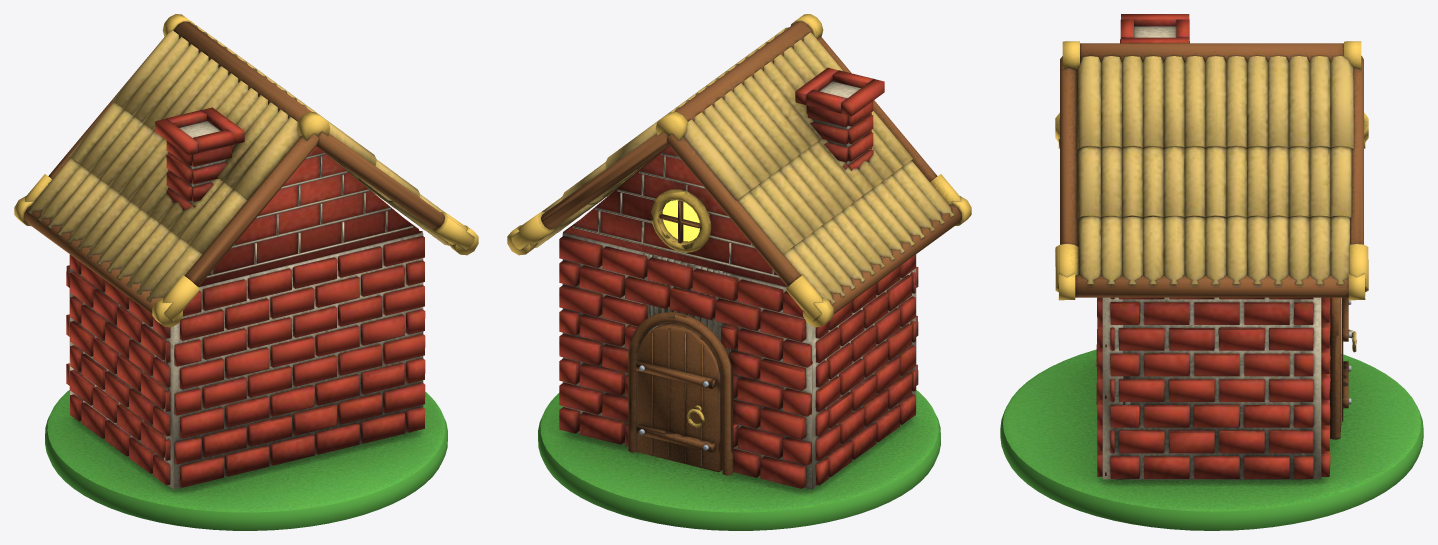
3 views of the same model, side by side, from view 1: azimuth 30°, elevation 25°; view 2: azimuth 150°, elevation 25°; view 3: azimuth 270°, elevation 25° (orthographic). The views are drawn at different scales.
Parts seen in each view (by area): view 1: Clay_brick_red, Golden_straw, Meadow_green, Warm_cream_mortar, Sanded_timber, Polished_golden_details; view 2: Clay_brick_red, Golden_straw, Sanded_timber, Meadow_green, Warm_cream_mortar, Polished_golden_details, glow_Warm_interior_light; view 3: Golden_straw, Clay_brick_red, Meadow_green, Sanded_timber, Warm_cream_mortar, Polished_golden_details.
Part boxes in pixels (x1=…): Clay_brick_red: x1=66, y1=107, x2=425, y2=487; Golden_straw: x1=27, y1=25, x2=449, y2=301; Meadow_green: x1=45, y1=390, x2=447, y2=530; Warm_cream_mortar: x1=69, y1=121, x2=423, y2=489; Sanded_timber: x1=24, y1=21, x2=444, y2=314; Polished_golden_details: x1=14, y1=14, x2=478, y2=327; Clay_brick_red: x1=559, y1=67, x2=918, y2=488; Golden_straw: x1=534, y1=27, x2=954, y2=304; Sanded_timber: x1=541, y1=21, x2=961, y2=475; Meadow_green: x1=538, y1=390, x2=940, y2=530; Warm_cream_mortar: x1=562, y1=81, x2=916, y2=489; Polished_golden_details: x1=507, y1=14, x2=971, y2=427; glow_Warm_interior_light: x1=662, y1=200, x2=699, y2=241; Golden_straw: x1=1077, y1=56, x2=1353, y2=284; Clay_brick_red: x1=1096, y1=14, x2=1330, y2=478; Meadow_green: x1=1000, y1=349, x2=1423, y2=530; Sanded_timber: x1=1060, y1=43, x2=1363, y2=479; Warm_cream_mortar: x1=1102, y1=26, x2=1321, y2=479; Polished_golden_details: x1=1055, y1=41, x2=1368, y2=352.
Size of the model in its own units: 2.24 by 2.35 by 2.24.
8 materials, 7 textured.
